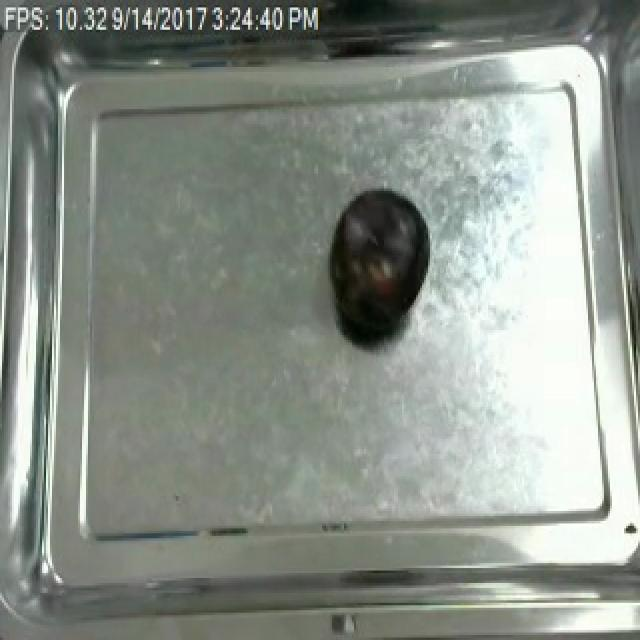Fruit: (324, 184, 428, 342)
